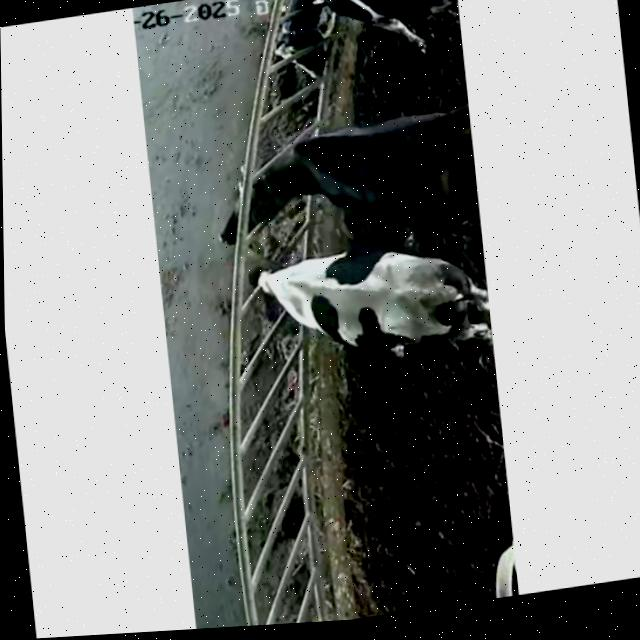eat: (184, 113, 377, 257), (206, 243, 379, 348), (228, 0, 388, 52)
